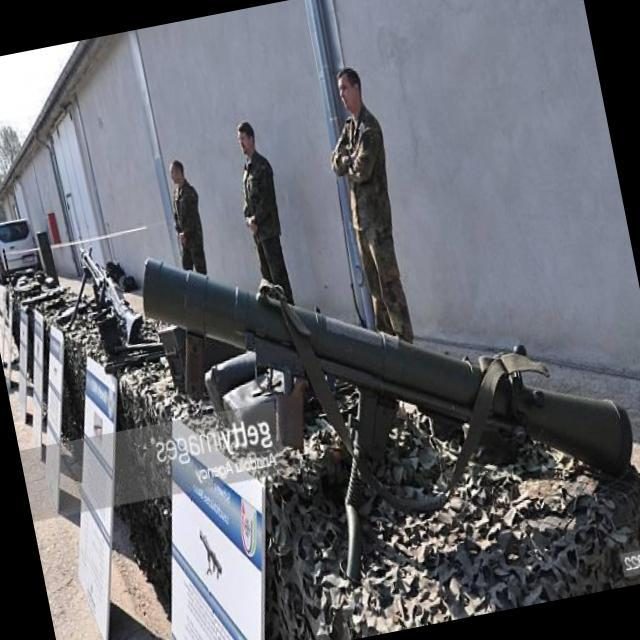rocket: (140, 170, 638, 562)
